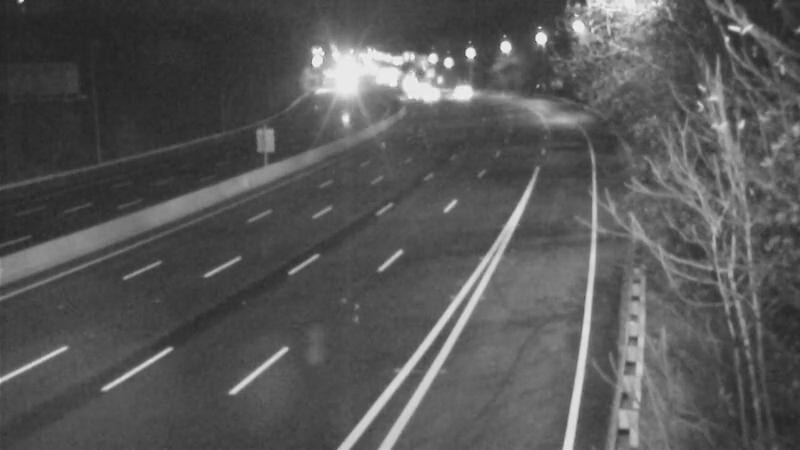vehicle: (439, 64, 489, 114), (381, 73, 431, 123), (406, 71, 456, 121)
